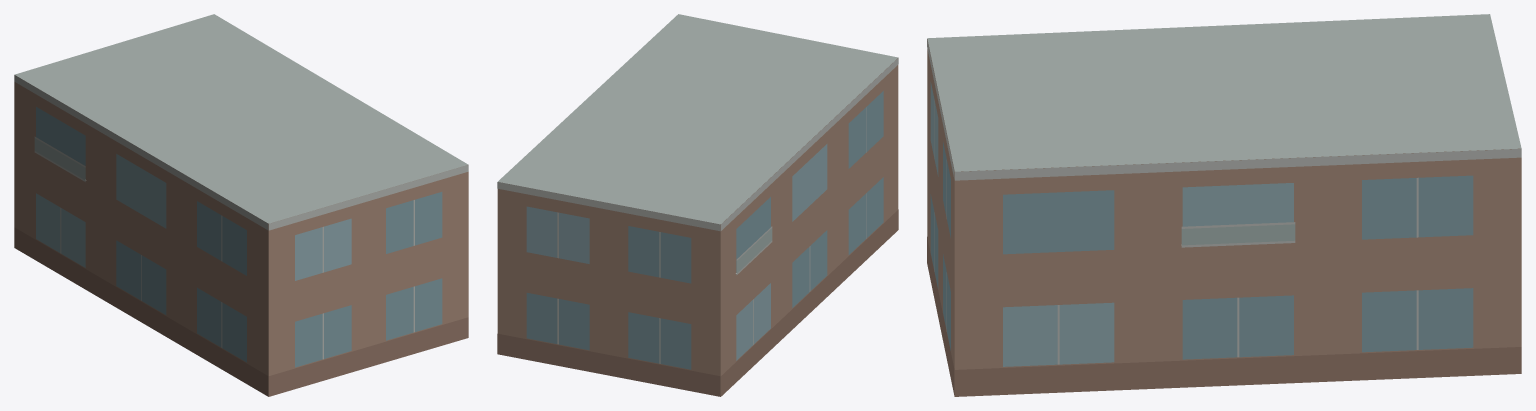
Rendered from survey-upis-32725789.glb.
3 views of the same model, side by side, from view 1: azimuth 30°, elevation 25°; view 2: azimuth 150°, elevation 25°; view 3: azimuth 270°, elevation 25° (orthographic). The views are drawn at different scales.
Parts seen in each view (by area): view 1: survey-upis-32725789.tmp; view 2: survey-upis-32725789.tmp; view 3: survey-upis-32725789.tmp.
Boxes of the visible parts, left/top/right/bottom form: survey-upis-32725789.tmp: left=14, top=14, right=468, bottom=396; survey-upis-32725789.tmp: left=497, top=14, right=898, bottom=396; survey-upis-32725789.tmp: left=927, top=14, right=1521, bottom=396.
Size of the model in its own units: 9.17 by 6.1 by 14.61.
